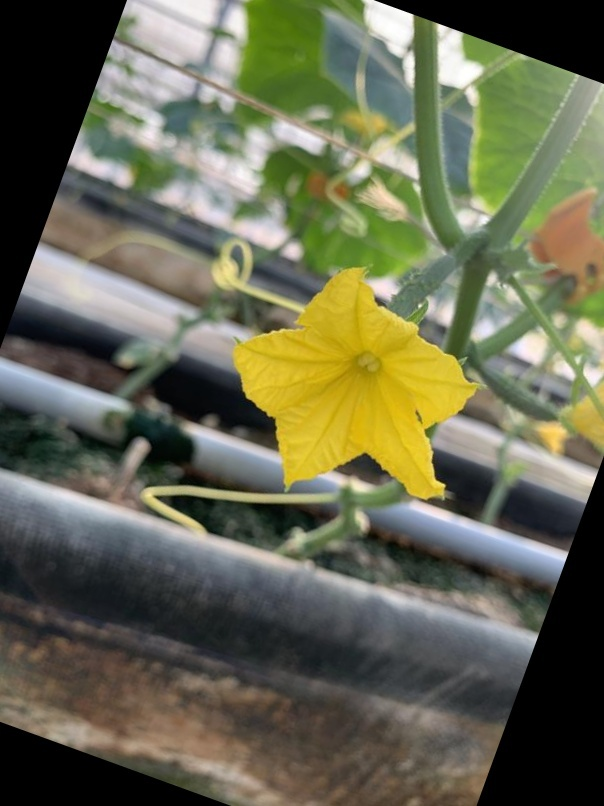flowering: (221, 246, 509, 498)
